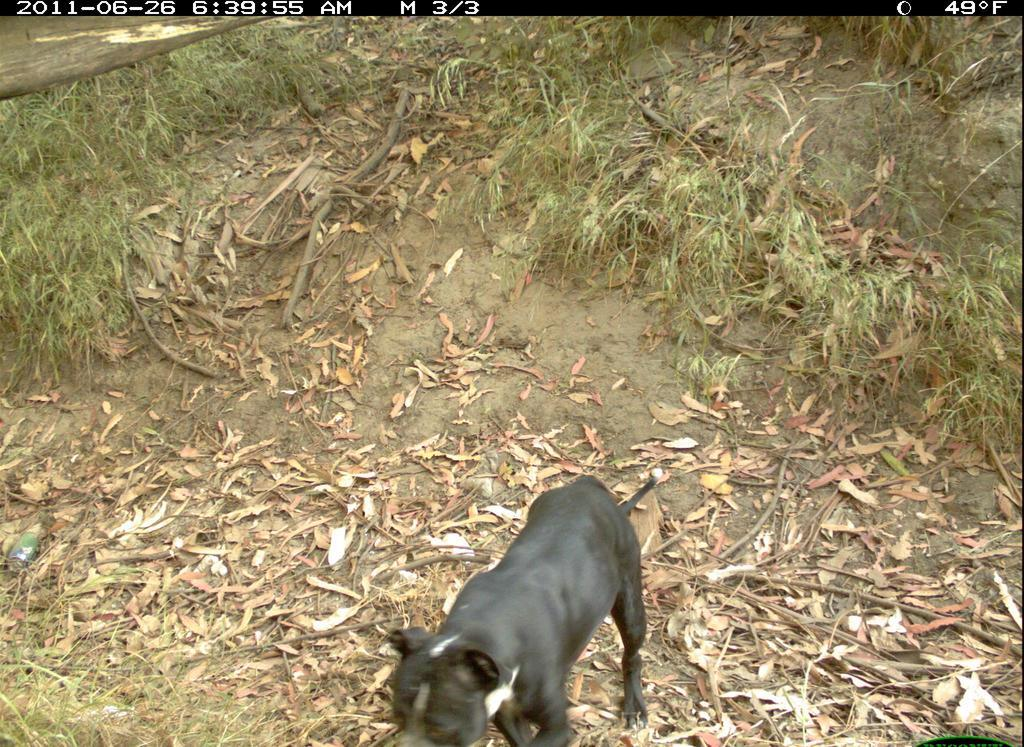dog: (353, 455, 688, 747)
